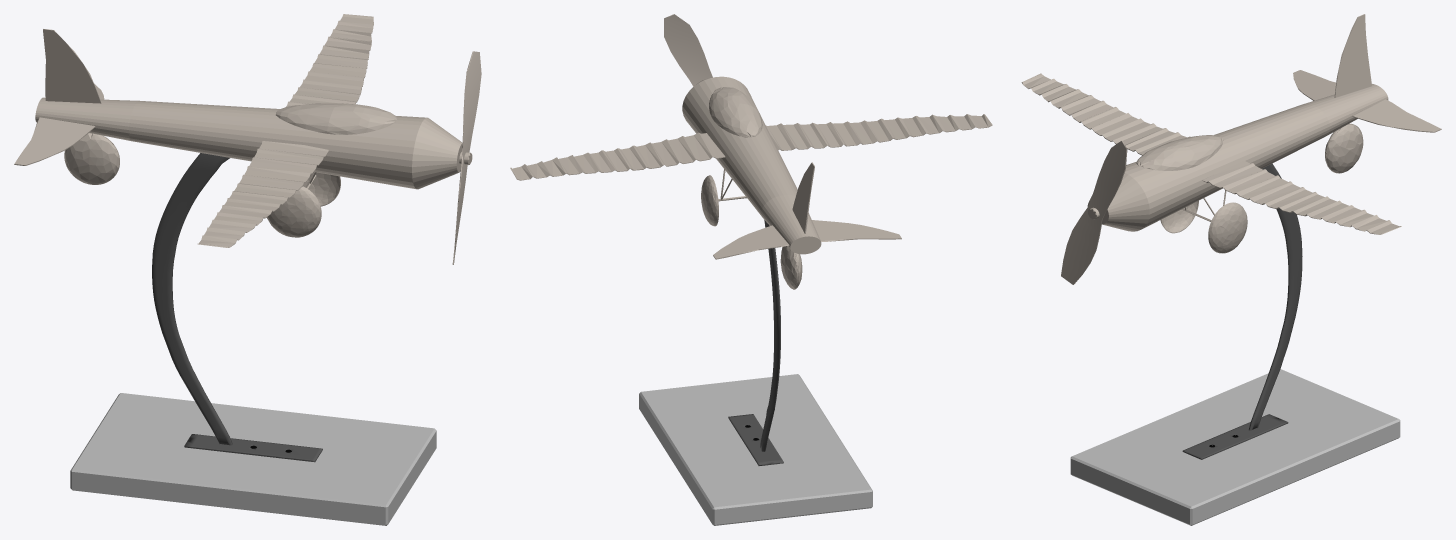
File: samoletik_FINAL.fbx
3 renders of one model, left to right at view 1: azimuth 30°, elevation 25°; view 2: azimuth 150°, elevation 25°; view 3: azimuth 270°, elevation 25°, orthographic. The views are drawn at different scales.
Visible parts, largest first — view 1: body_mesh1, base_mesh, pret_mesh, wheels_mesh; view 2: base_mesh, body_mesh1, pret_mesh, wheels_mesh; view 3: body_mesh1, base_mesh, pret_mesh, wheels_mesh.
Boxes of the visible parts, x1,y1,x2,y2 form: body_mesh1: (14, 14, 472, 247); base_mesh: (70, 393, 436, 525); pret_mesh: (152, 51, 481, 462); wheels_mesh: (64, 133, 340, 237); base_mesh: (639, 374, 872, 525); body_mesh1: (510, 76, 992, 259); pret_mesh: (664, 14, 783, 465); wheels_mesh: (701, 175, 802, 289); body_mesh1: (1021, 14, 1441, 234); base_mesh: (1070, 369, 1400, 525); pret_mesh: (1061, 140, 1302, 459); wheels_mesh: (1160, 123, 1363, 253).
Bounding box in the file's own units: 39.75 × 40.06 × 39.6.
